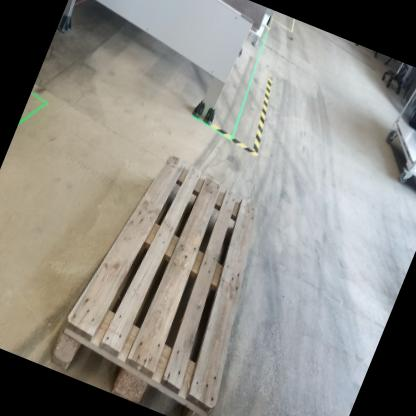BoxFace: (47, 144, 263, 416)
